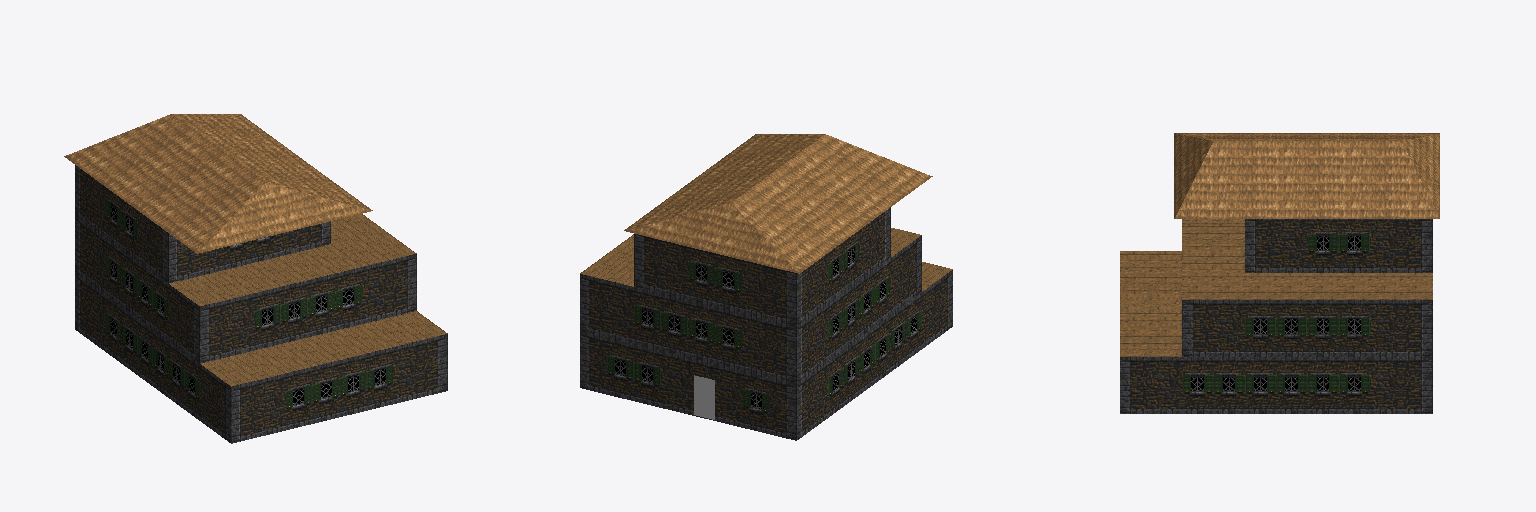
3 renders of one model, left to right at view 1: azimuth 30°, elevation 25°; view 2: azimuth 150°, elevation 25°; view 3: azimuth 270°, elevation 25°, orthographic.
Parts seen in each view (by area): view 1: model239-node_model239; view 2: model239-node_model239; view 3: model239-node_model239.
Part boxes in pixels (x1,y1,x2,y2): model239-node_model239: (64,114,447,443); model239-node_model239: (580,134,952,440); model239-node_model239: (1120,133,1439,413).
Bounding box in the file's own units: 13.2 × 11.68 × 16.4.
8 materials, 6 textured.